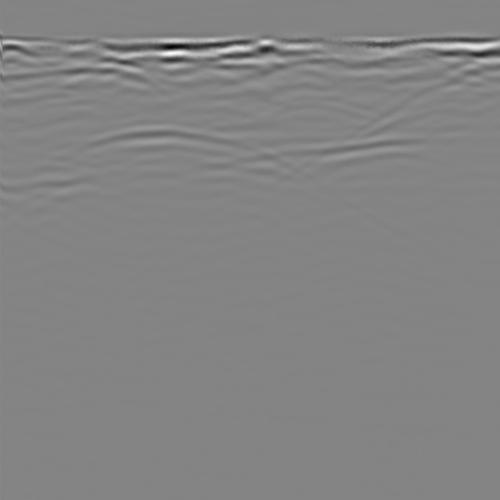hyperbola: (23, 119, 325, 231)
